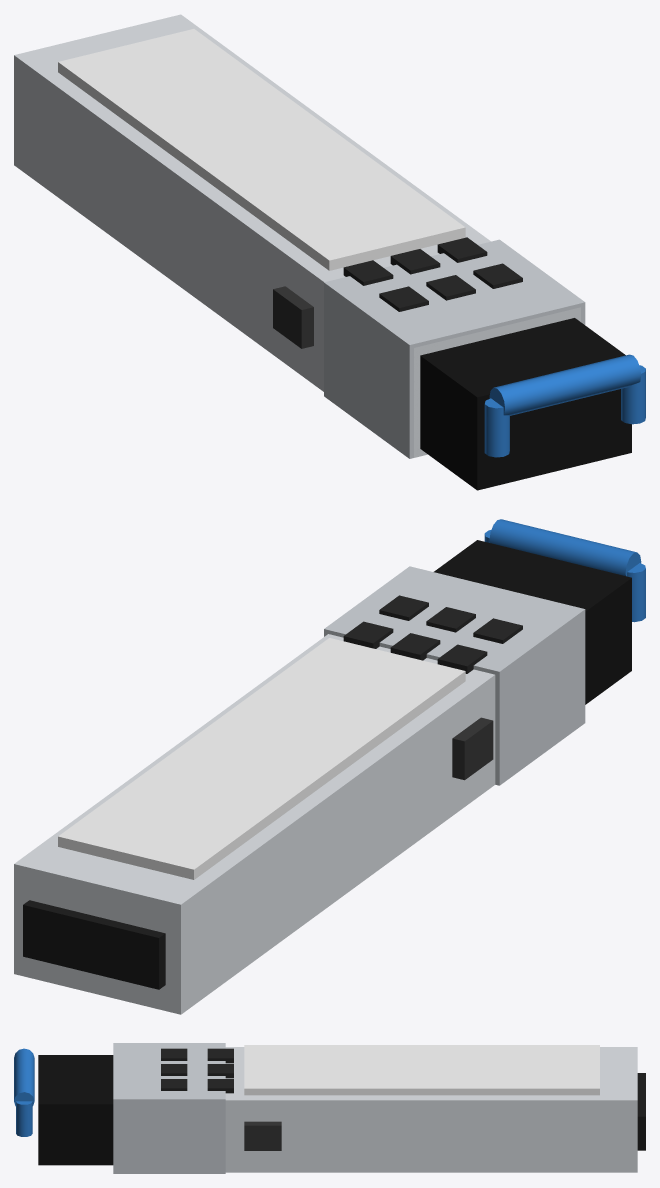
The model's file is 03-sfp-module-ascentoptics-1310nm.glb.
3 views of the same model, one above another, from view 1: azimuth 30°, elevation 25°; view 2: azimuth 150°, elevation 25°; view 3: azimuth 270°, elevation 25° (orthographic). The views are drawn at different scales.
Bounding box in the file's own units: 0.0155 × 0.0093 × 0.0675.
